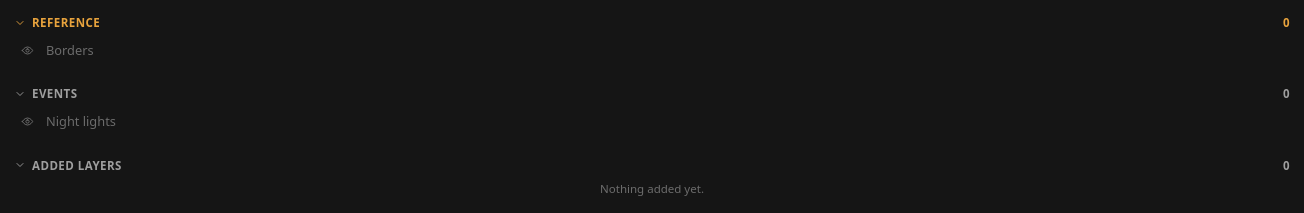
the layer list › folds a heading away and keeps the rest
What coordinates should you click on to do the following:
click the button with class "sub-head" showing "Reference 0"
I would click on:
 (66, 22)
Its box is [12,12,1292,37].
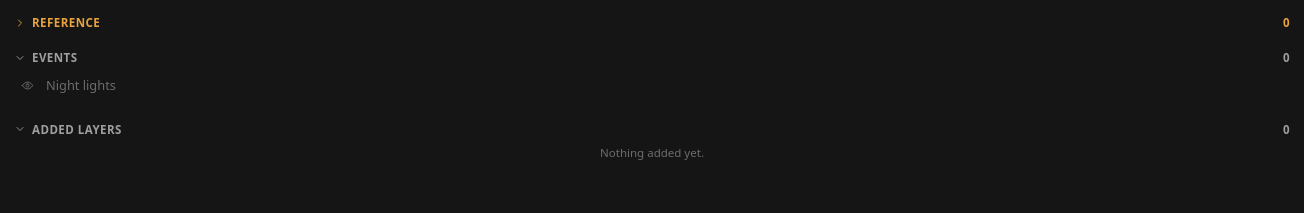
Check: the button with class "sub-head" is collapsed, box [12,12,1292,37]
